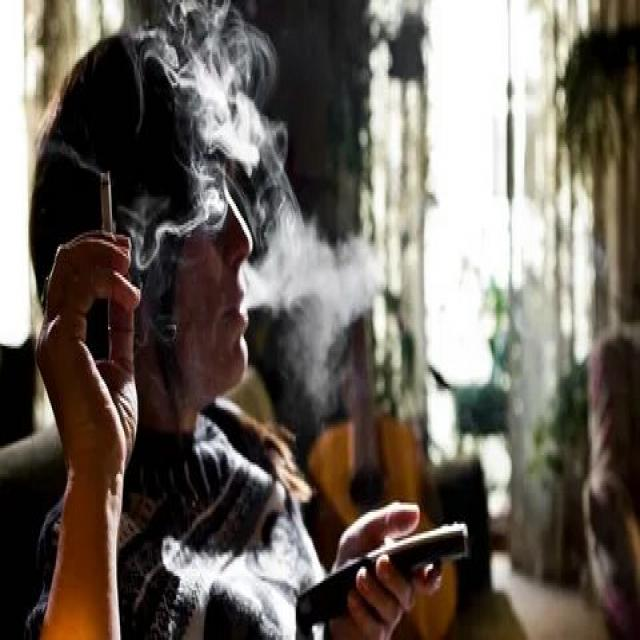smoke: (97, 171, 119, 244)
